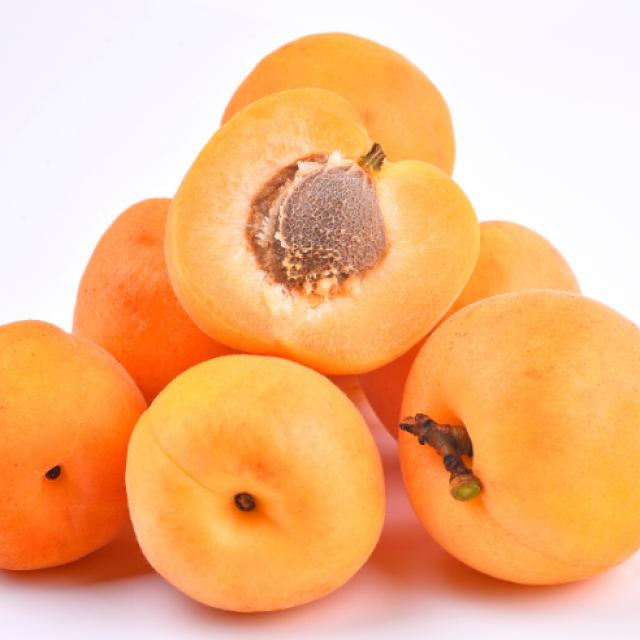kayisi: (141, 88, 487, 372), (401, 287, 640, 586), (129, 353, 390, 608), (0, 319, 152, 597), (211, 32, 463, 175), (68, 194, 240, 393)
kayisi cekirdegi: (246, 150, 390, 288)
